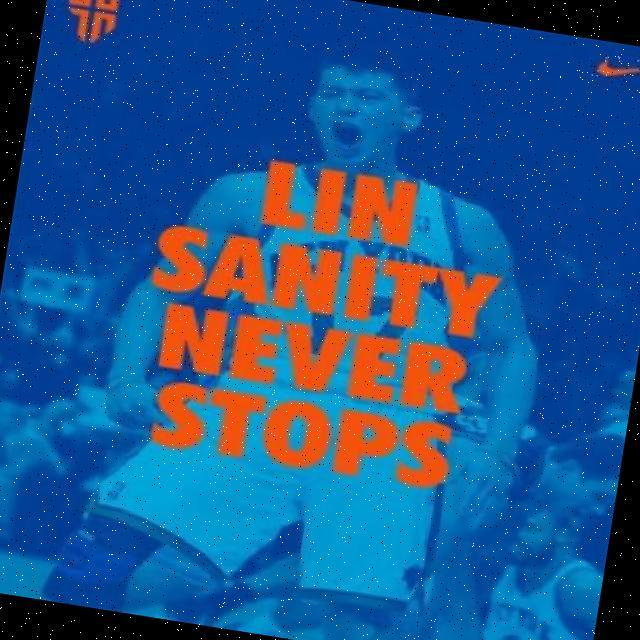Nike: (589, 49, 640, 86)
